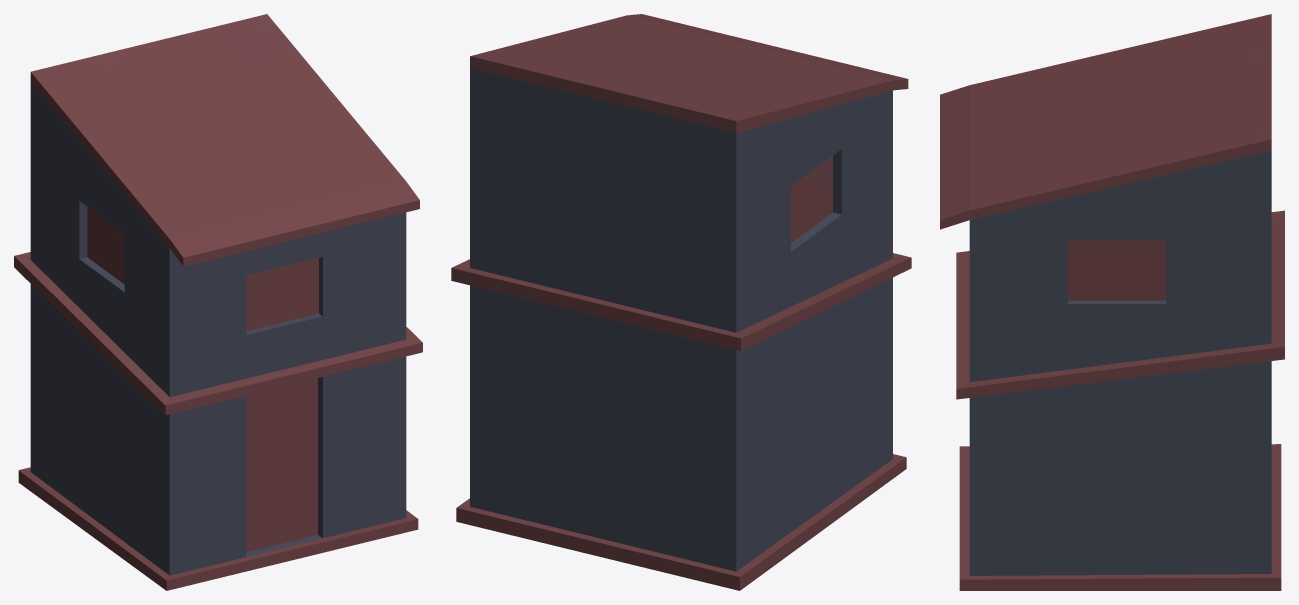
The model's file is CasasPerifericas2.fbx.
The picture shows the model from 3 angles, left to right: view 1: azimuth 30°, elevation 25°; view 2: azimuth 150°, elevation 25°; view 3: azimuth 270°, elevation 25°; orthographic projection. The views are drawn at different scales.
Visible parts, largest first — view 1: Casa02_LOD0; view 2: Casa02_LOD0; view 3: Casa02_LOD0.
Boxes of the visible parts, x1=… form: Casa02_LOD0: x1=14, y1=14, x2=422, y2=590; Casa02_LOD0: x1=451, y1=14, x2=911, y2=590; Casa02_LOD0: x1=940, y1=14, x2=1284, y2=590.
Size of what is drawn, in the model's own units: 320 by 490 by 343.
